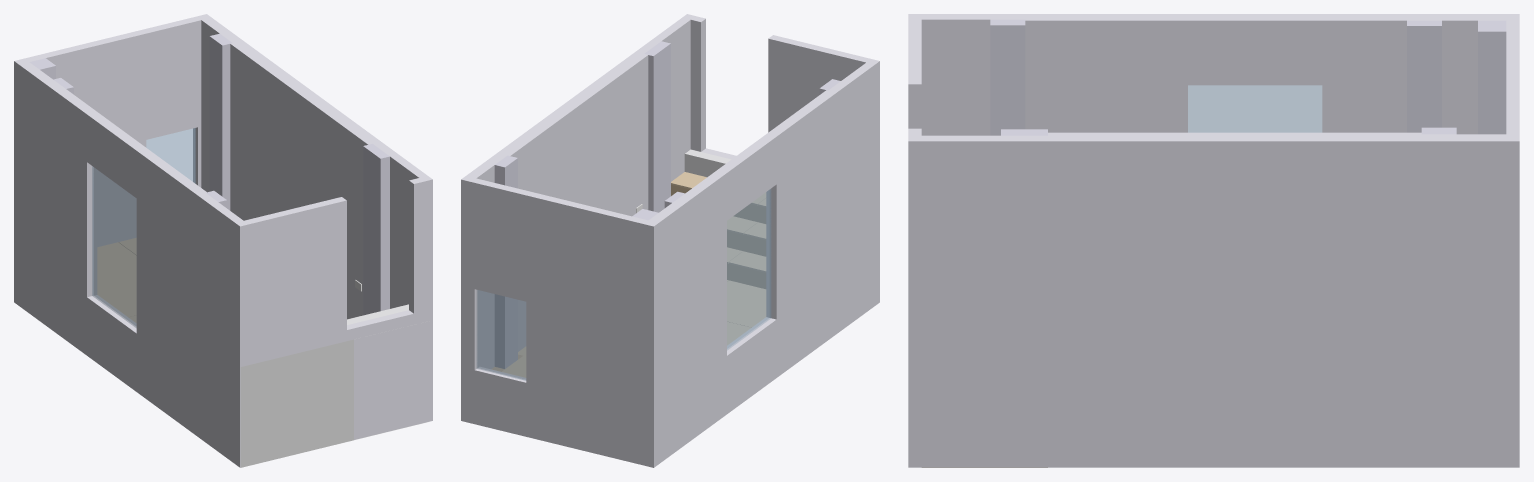
File: myroom.fbx
The picture shows the model from 3 angles, left to right: view 1: azimuth 30°, elevation 25°; view 2: azimuth 150°, elevation 25°; view 3: azimuth 270°, elevation 25°; orthographic projection. The views are drawn at different scales.
Visible parts, largest first — view 1: Tuong_ben_dieu_hoa, Tuong_dau_cua, Tuong_ben_o_cua, Tuong_dau_cua_so, Plane.001, Cua_so_ben_100x150_bau_65_vi_tri_uoc_luong, Cot_dau_cua_ben_o_cua_11x35x6, Cot_canh_dau_cua_so_ben_phai_12x26x9, Cua_so_dau_60x90_bau_60, 10_Dau_giuong_nap_1, 09_Giuong_chinh_nap_3; view 2: Tuong_ben_dieu_hoa, Tuong_dau_cua_so, Tuong_ben_o_cua, Tuong_dau_cua, Cua_so_ben_100x150_bau_65_vi_tri_uoc_luong, Cua_so_dau_60x90_bau_60, Cot_dau_cua_ben_o_cua_11x35x6, Cot_canh_dau_cua_so_ben_phai_12x26x9, 09_Giuong_chinh_nap_1, Buc_duoi_o_cua_cao124_sau12_rong_uoc_luong, 03_Bac_2_183x30_cao84, 06_Bac_3_183x30_cao64 (+3 smaller); view 3: Tuong_ben_o_cua, Tuong_ben_dieu_hoa, Cua_so_ben_100x150_bau_65_vi_tri_uoc_luong, Cot_dau_cua_ben_dieu_hoa_10x26x8, Cot_canh_dau_cua_so_ben_trai_9x26x9, Tuong_dau_cua, Tuong_dau_cua_so, Cot_goc_dau_cua_so_19x21.
Boxes of the visible parts, <box> form: Tuong_ben_dieu_hoa: <box>14,58,248,467</box>; Tuong_dau_cua: <box>235,176,432,466</box>; Tuong_ben_o_cua: <box>197,14,432,422</box>; Tuong_dau_cua_so: <box>14,14,206,305</box>; Plane.001: <box>240,339,427,467</box>; Cua_so_ben_100x150_bau_65_vi_tri_uoc_luong: <box>92,166,136,327</box>; Cot_dau_cua_ben_o_cua_11x35x6: <box>363,144,389,315</box>; Cot_canh_dau_cua_so_ben_phai_12x26x9: <box>209,33,231,210</box>; Cua_so_dau_60x90_bau_60: <box>146,128,195,183</box>; 10_Dau_giuong_nap_1: <box>97,242,136,282</box>; 09_Giuong_chinh_nap_3: <box>97,274,136,316</box>; Tuong_ben_dieu_hoa: <box>643,59,879,467</box>; Tuong_dau_cua_so: <box>461,177,658,467</box>; Tuong_ben_o_cua: <box>461,14,695,423</box>; Tuong_dau_cua: <box>686,14,879,302</box>; Cua_so_ben_100x150_bau_65_vi_tri_uoc_luong: <box>727,189,771,350</box>; Cua_so_dau_60x90_bau_60: <box>476,290,526,380</box>; Cot_dau_cua_ben_o_cua_11x35x6: <box>644,41,670,212</box>; Cot_canh_dau_cua_so_ben_phai_12x26x9: <box>494,155,517,368</box>; 09_Giuong_chinh_nap_1: <box>727,280,765,327</box>; Buc_duoi_o_cua_cao124_sau12_rong_uoc_luong: <box>684,149,731,177</box>; 03_Bac_2_183x30_cao84: <box>727,231,765,256</box>; 06_Bac_3_183x30_cao64: <box>727,263,765,288</box>; Tuong_ben_o_cua: <box>908,132,1519,467</box>; Tuong_ben_dieu_hoa: <box>908,14,1519,135</box>; Cua_so_ben_100x150_bau_65_vi_tri_uoc_luong: <box>1188,85,1322,132</box>; Cot_dau_cua_ben_dieu_hoa_10x26x8: <box>990,19,1025,135</box>; Cot_canh_dau_cua_so_ben_trai_9x26x9: <box>1407,20,1441,132</box>; Tuong_dau_cua: <box>908,14,921,467</box>; Tuong_dau_cua_so: <box>1506,14,1519,467</box>; Cot_goc_dau_cua_so_19x21: <box>1478,20,1506,134</box>.
Size of the model in its own units: 224 by 273 by 455.
